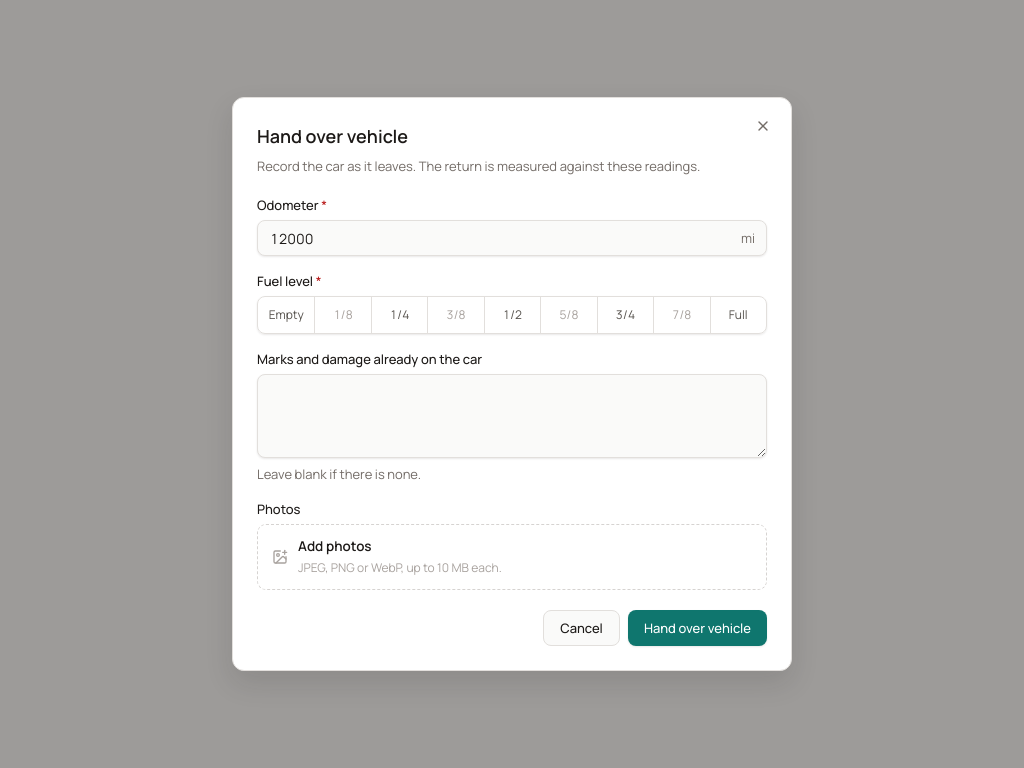
Test: BookingConditionDialog › starts a pickup from the mileage on file and will not hand over without a fuel level
Check: the field labelled "Odometer *" holds "12000", box [257, 220, 767, 256]
Click the button "Hand over vehicle": (697, 628) [628, 610, 767, 646]
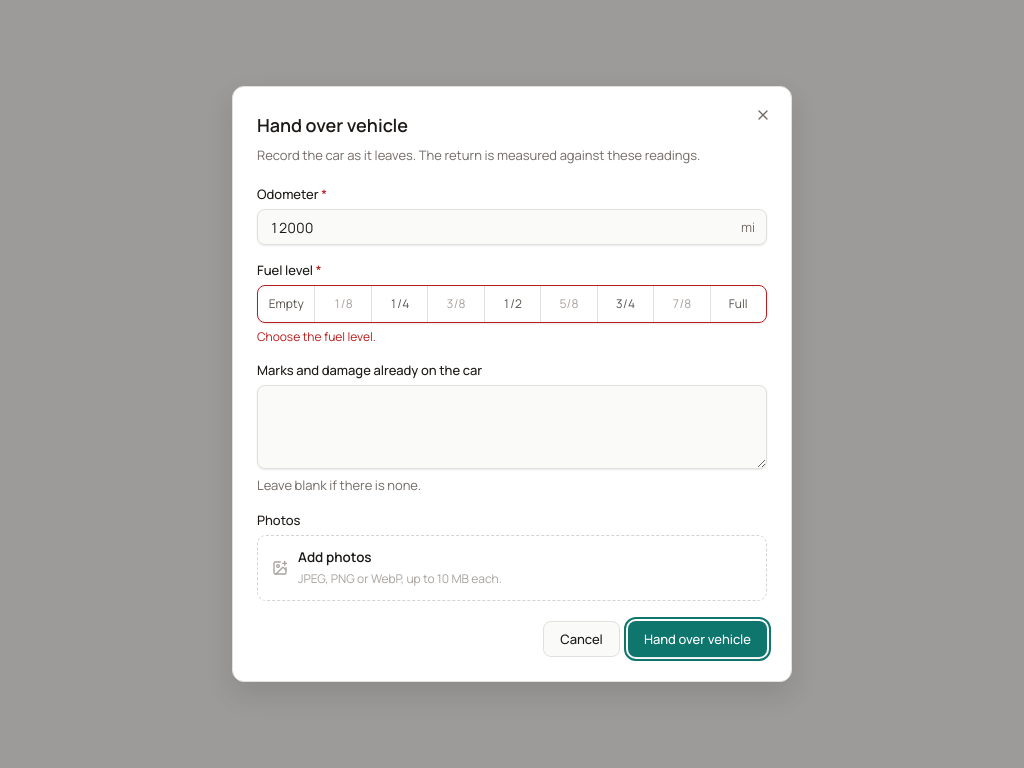
Check: the text "Choose the fuel level." is shown, box [257, 328, 376, 345]
